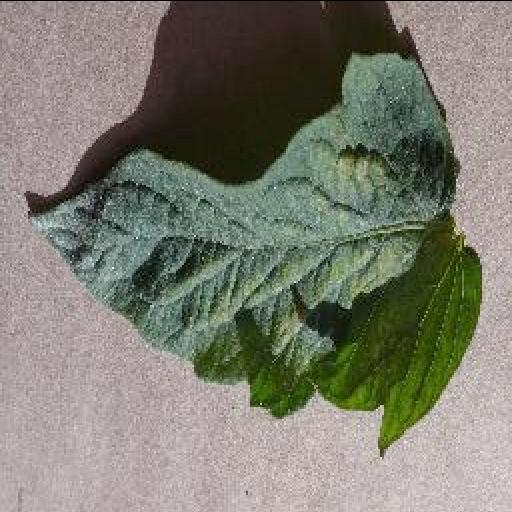disease_tomato: (28, 50, 482, 458)
